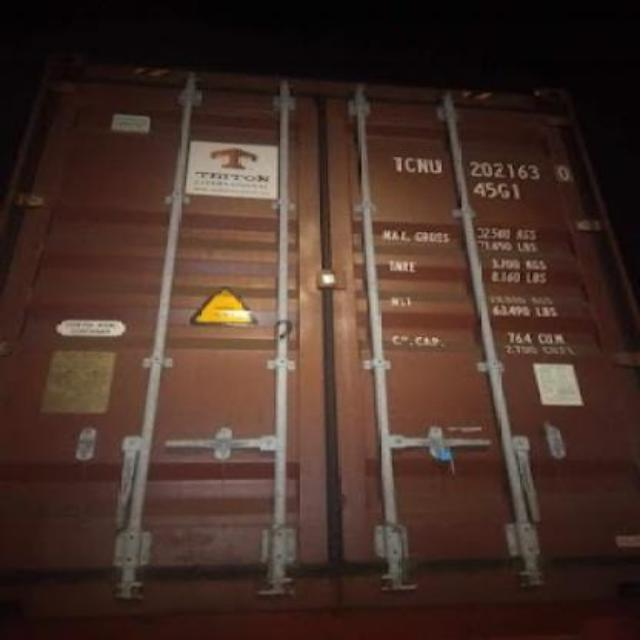0: (481, 144, 494, 178), (554, 157, 570, 183)
1: (504, 157, 516, 181)
2: (462, 152, 484, 178), (492, 149, 504, 181)
3: (528, 148, 542, 184)
6: (516, 155, 528, 181)
C: (404, 150, 416, 174)
N: (416, 141, 429, 177)
T: (391, 148, 404, 176)
U: (430, 147, 442, 177)
